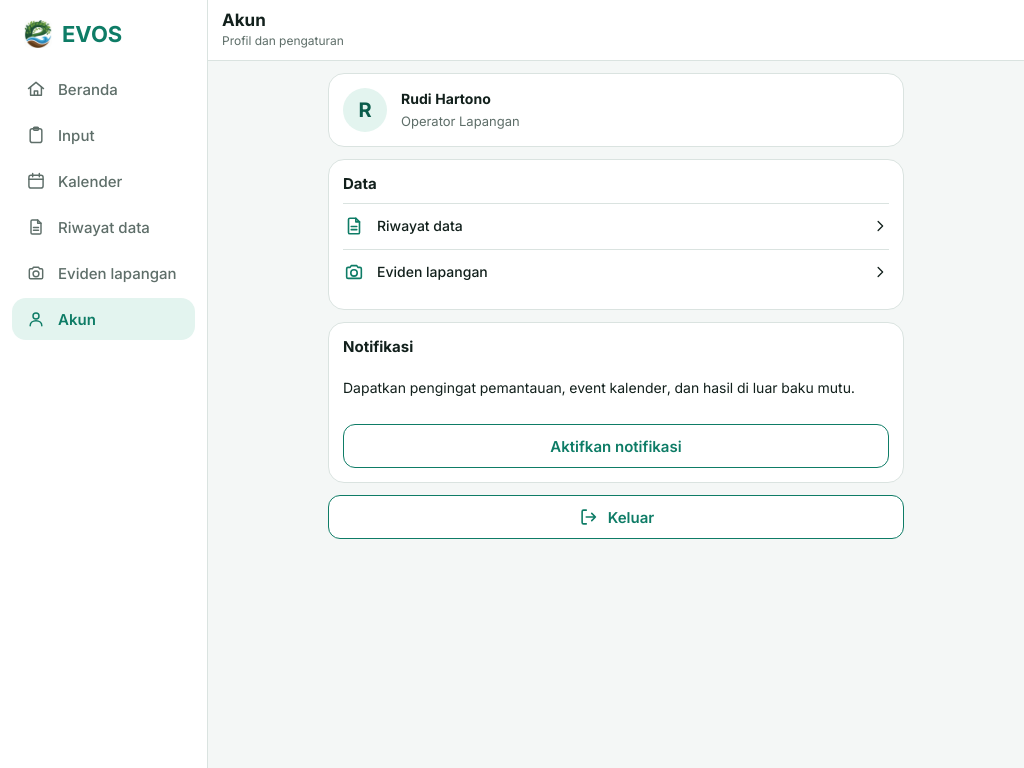
Test: Notifikasi › Aktifkan notifikasi subscribes and tells the server
The width and height of the screenshot is (1024, 768).
Click the button "Aktifkan notifikasi": (616, 446) x1=343 y1=424 x2=889 y2=468
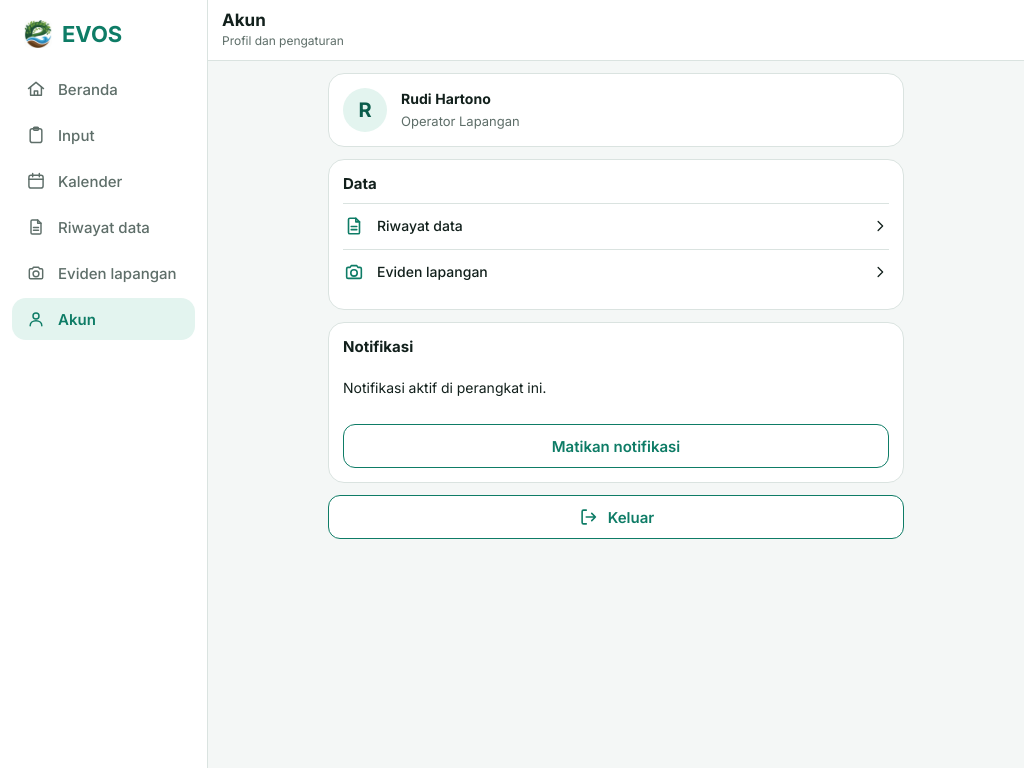
Now the button "Matikan notifikasi" is shown, box x1=343 y1=424 x2=889 y2=468
